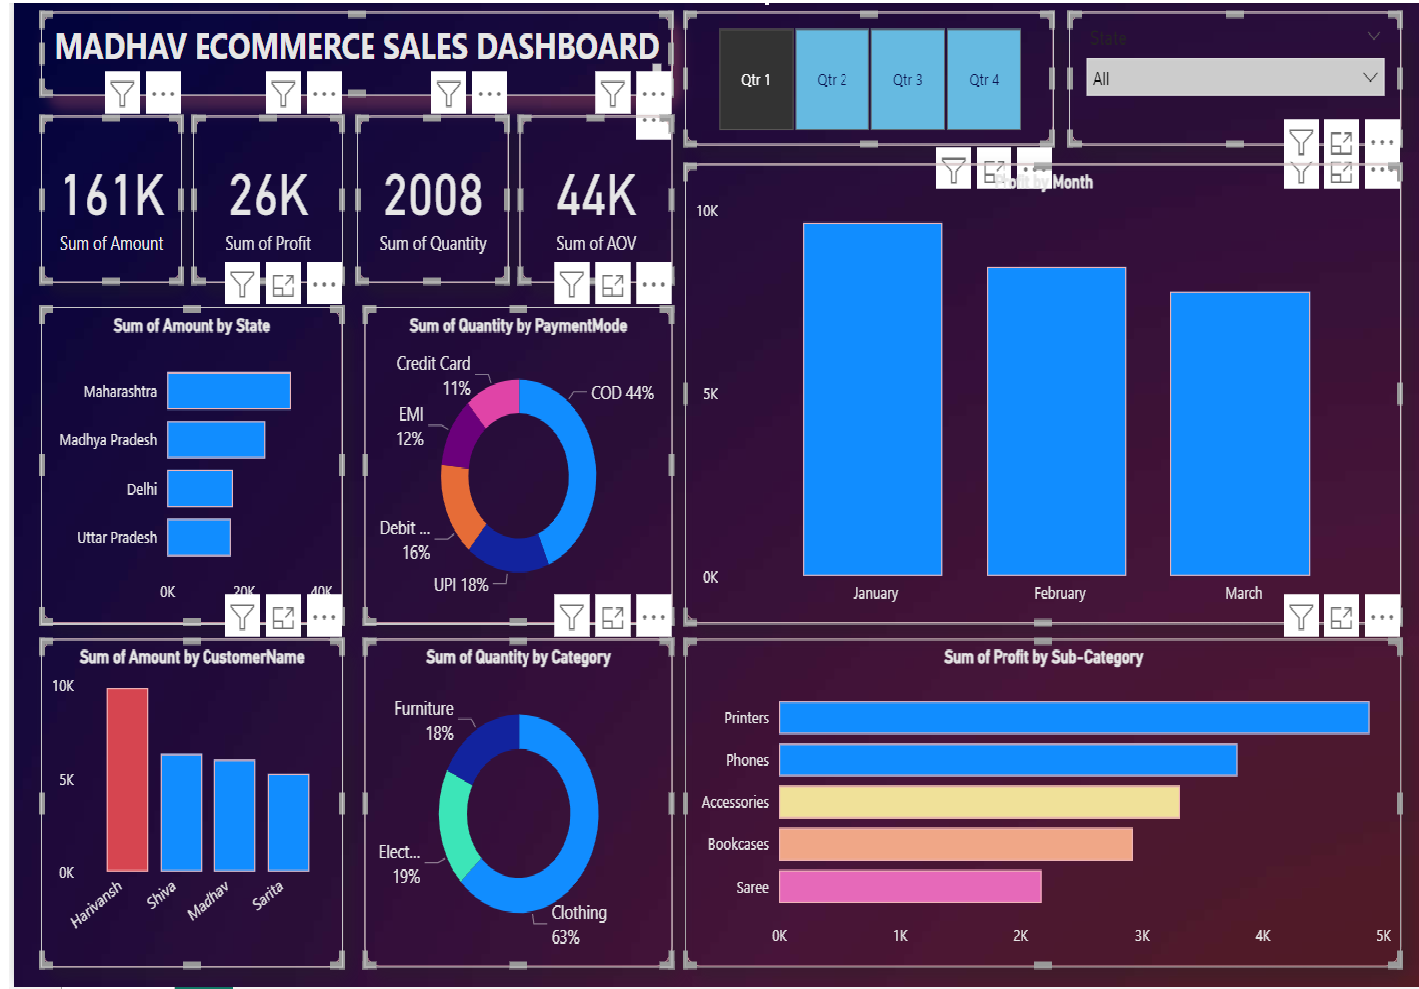

The dashboard page shown, as its layout file describes it:
{"tool":"powerbi","page":{"name":"Page 1","canvas":[1280,720],"ordinal":0},"visuals":[{"type":"textbox","title":"MADHAV ECOMMERCE SALES DASHBOARD","box":[25,9.7,572.2,61.1],"z":0},{"type":"columnChart","title":"Profit by Month","fields":{"Category":["Orders.Order Date.Variation.Date Hierarchy.Month"],"Y":["Details.Profit"]},"box":[608.3,120.8,650,334.7],"z":1000},{"type":"barChart","fields":{"Category":["Details.Sub-Category"],"Y":["Details.Profit"]},"box":[608.3,466.7,650,238.9],"z":2000},{"type":"donutChart","fields":{"Category":["Details.Category"],"Y":["Details.Quantity"]},"box":[318.1,466.7,279.2,238.9],"z":3000},{"type":"donutChart","fields":{"Y":["Details.Quantity"],"Category":["Details.PaymentMode"]},"box":[318.1,225,279.2,230.6],"z":4000},{"type":"card","fields":{"Values":["Details.Amount"]},"box":[25,84.7,127.8,122.2],"z":5000},{"type":"card","fields":{"Values":["Details.Quantity"]},"box":[311.1,84.7,137.5,122.2],"z":6000},{"type":"card","fields":{"Values":["Details.Profit"]},"box":[162.5,84.7,136.1,122.2],"z":7000},{"type":"clusteredBarChart","fields":{"Category":["Orders.State"],"Y":["Details.Amount"]},"box":[25,225,273.6,230.6],"z":9000},{"type":"clusteredColumnChart","fields":{"Category":["Orders.CustomerName"],"Y":["Details.Amount"]},"box":[25,467,274,239],"z":10000},{"type":"slicer","fields":{"Values":["Orders.Order Date.Variation.Date Hierarchy.Quarter"]},"box":[608.3,9.7,334.7,97.2],"z":10001},{"type":"card","fields":{"Values":["Details.AOV"]},"box":[458.3,84.7,138.9,122.2],"z":10002},{"type":"slicer","fields":{"Values":["Orders.State"]},"box":[956.9,9.7,301.4,97.2],"z":10003}]}

Visuals, with their boxes on the page's 1280x720 design canvas (x1, y1, x2, y2). These are canvas units, not pixel positions in the 1419x989 screenshot, which may show the page scaled, cropped or inside an application window:
"MADHAV ECOMMERCE SALES DASHBOARD" textbox: [left=25, top=10, right=597, bottom=71]
"Profit by Month" columnChart: [left=608, top=121, right=1258, bottom=456]
barChart - Details.Sub-Category x Details.Profit: [left=608, top=467, right=1258, bottom=706]
donutChart - Details.Category x Details.Quantity: [left=318, top=467, right=597, bottom=706]
donutChart - Details.Quantity x Details.PaymentMode: [left=318, top=225, right=597, bottom=456]
card - Details.Amount: [left=25, top=85, right=153, bottom=207]
card - Details.Quantity: [left=311, top=85, right=449, bottom=207]
card - Details.Profit: [left=162, top=85, right=299, bottom=207]
clusteredBarChart - Orders.State x Details.Amount: [left=25, top=225, right=299, bottom=456]
clusteredColumnChart - Orders.CustomerName x Details.Amount: [left=25, top=467, right=299, bottom=706]
slicer - Orders.Order Date.Variation.Date Hierarchy.Quarter: [left=608, top=10, right=943, bottom=107]
card - Details.AOV: [left=458, top=85, right=597, bottom=207]
slicer - Orders.State: [left=957, top=10, right=1258, bottom=107]
